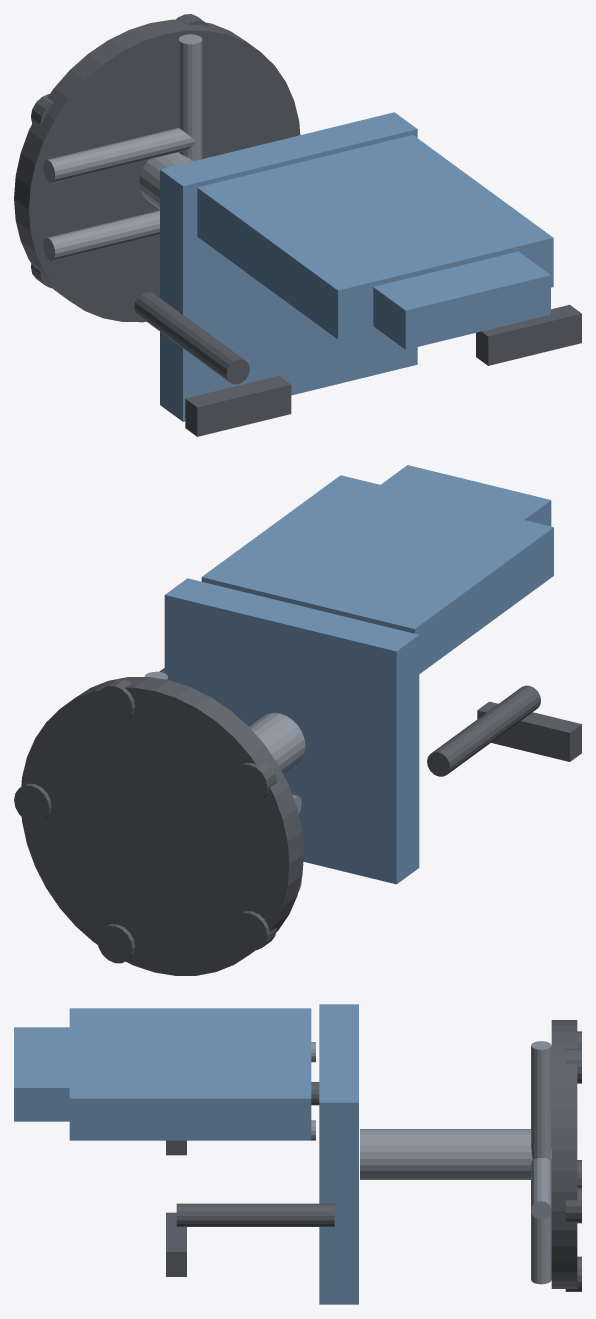
The model's file is SM_Chair_Ergonomic_POC.glb.
3 renders of one model, top to bottom at view 1: azimuth 30°, elevation 25°; view 2: azimuth 150°, elevation 25°; view 3: azimuth 270°, elevation 25°, orthographic. The views are drawn at different scales.
Visible parts, largest first — view 1: SM_Chair_Ergonomic_POC_13, SM_Chair_Ergonomic_POC_00, SM_Chair_Ergonomic_POC_12, SM_Chair_Ergonomic_POC_16, SM_Chair_Ergonomic_POC_19, SM_Chair_Ergonomic_POC_20, SM_Chair_Ergonomic_POC_17, SM_Chair_Ergonomic_POC_06, SM_Chair_Ergonomic_POC_08, SM_Chair_Ergonomic_POC_04, SM_Chair_Ergonomic_POC_01; view 2: SM_Chair_Ergonomic_POC_00, SM_Chair_Ergonomic_POC_12, SM_Chair_Ergonomic_POC_13, SM_Chair_Ergonomic_POC_16, SM_Chair_Ergonomic_POC_17, SM_Chair_Ergonomic_POC_19, SM_Chair_Ergonomic_POC_01, SM_Chair_Ergonomic_POC_07, SM_Chair_Ergonomic_POC_05, SM_Chair_Ergonomic_POC_09, SM_Chair_Ergonomic_POC_11, SM_Chair_Ergonomic_POC_03; view 3: SM_Chair_Ergonomic_POC_13, SM_Chair_Ergonomic_POC_12, SM_Chair_Ergonomic_POC_01, SM_Chair_Ergonomic_POC_00, SM_Chair_Ergonomic_POC_16, SM_Chair_Ergonomic_POC_18, SM_Chair_Ergonomic_POC_04, SM_Chair_Ergonomic_POC_10, SM_Chair_Ergonomic_POC_02, SM_Chair_Ergonomic_POC_20, SM_Chair_Ergonomic_POC_03.
Boxes of the visible parts, x1,y1,x2,y2 form: SM_Chair_Ergonomic_POC_13: [197, 135, 553, 339]; SM_Chair_Ergonomic_POC_00: [14, 19, 300, 322]; SM_Chair_Ergonomic_POC_12: [160, 112, 417, 421]; SM_Chair_Ergonomic_POC_16: [373, 251, 550, 349]; SM_Chair_Ergonomic_POC_19: [185, 375, 291, 436]; SM_Chair_Ergonomic_POC_20: [476, 304, 581, 365]; SM_Chair_Ergonomic_POC_17: [134, 292, 249, 384]; SM_Chair_Ergonomic_POC_06: [43, 127, 195, 182]; SM_Chair_Ergonomic_POC_08: [43, 210, 159, 260]; SM_Chair_Ergonomic_POC_04: [178, 34, 202, 160]; SM_Chair_Ergonomic_POC_01: [139, 152, 193, 209]; SM_Chair_Ergonomic_POC_00: [21, 677, 303, 975]; SM_Chair_Ergonomic_POC_12: [164, 578, 419, 884]; SM_Chair_Ergonomic_POC_13: [201, 475, 553, 673]; SM_Chair_Ergonomic_POC_16: [381, 465, 551, 526]; SM_Chair_Ergonomic_POC_17: [427, 685, 540, 776]; SM_Chair_Ergonomic_POC_19: [477, 701, 581, 761]; SM_Chair_Ergonomic_POC_01: [249, 713, 305, 773]; SM_Chair_Ergonomic_POC_07: [232, 760, 276, 801]; SM_Chair_Ergonomic_POC_05: [97, 679, 134, 723]; SM_Chair_Ergonomic_POC_09: [232, 911, 276, 950]; SM_Chair_Ergonomic_POC_11: [97, 924, 134, 963]; SM_Chair_Ergonomic_POC_03: [14, 783, 51, 822]; SM_Chair_Ergonomic_POC_13: [69, 1008, 311, 1140]; SM_Chair_Ergonomic_POC_12: [319, 1004, 358, 1304]; SM_Chair_Ergonomic_POC_01: [360, 1129, 551, 1179]; SM_Chair_Ergonomic_POC_00: [551, 1020, 577, 1288]; SM_Chair_Ergonomic_POC_16: [14, 1027, 69, 1121]; SM_Chair_Ergonomic_POC_18: [176, 1203, 334, 1226]; SM_Chair_Ergonomic_POC_04: [531, 1041, 551, 1158]; SM_Chair_Ergonomic_POC_10: [531, 1155, 551, 1284]; SM_Chair_Ergonomic_POC_02: [531, 1157, 551, 1219]; SM_Chair_Ergonomic_POC_20: [166, 1212, 186, 1276]; SM_Chair_Ergonomic_POC_03: [565, 1188, 581, 1223].
Bounding box in the file's own units: 0.82 × 0.58 × 1.22.
